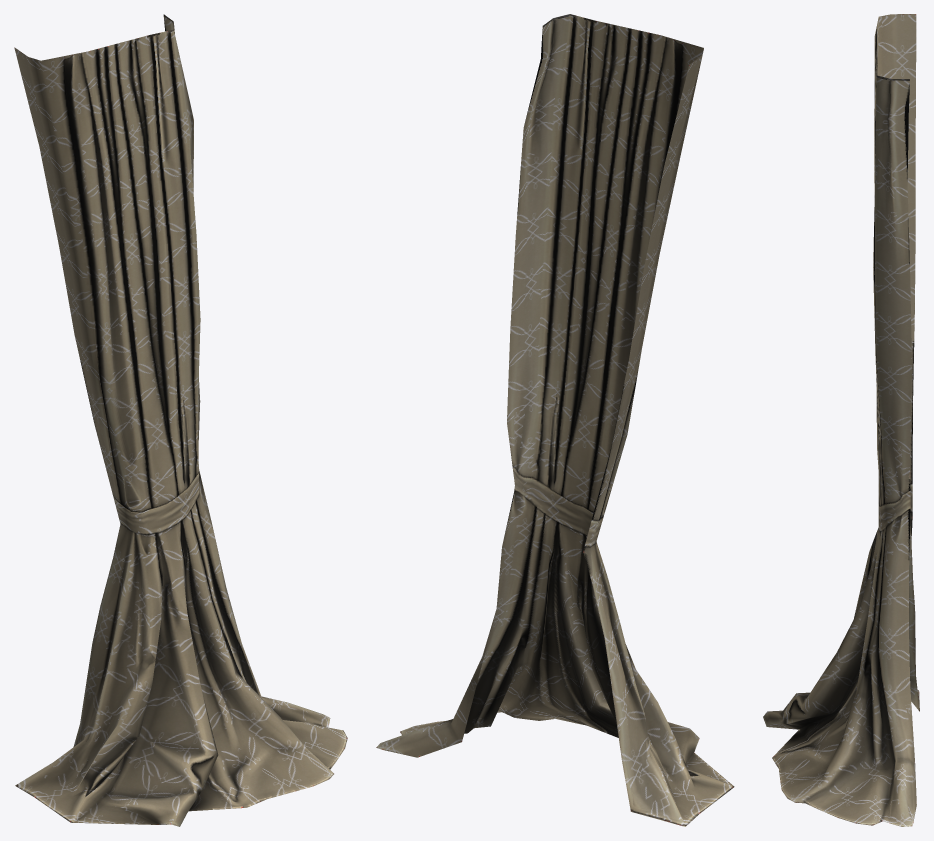
Rendered from Curtain01.FBX.
The picture shows the model from 3 angles, left to right: view 1: azimuth 30°, elevation 25°; view 2: azimuth 150°, elevation 25°; view 3: azimuth 270°, elevation 25°; orthographic projection. The views are drawn at different scales.
Parts seen in each view (by area): view 1: Curtain01; view 2: Curtain01; view 3: Curtain01.
Boxes of the visible parts, x1=… form: Curtain01: x1=14, y1=14, x2=347, y2=826; Curtain01: x1=376, y1=14, x2=734, y2=826; Curtain01: x1=763, y1=14, x2=919, y2=826.
Size of the model in its own units: 118 by 56.98 by 271.
